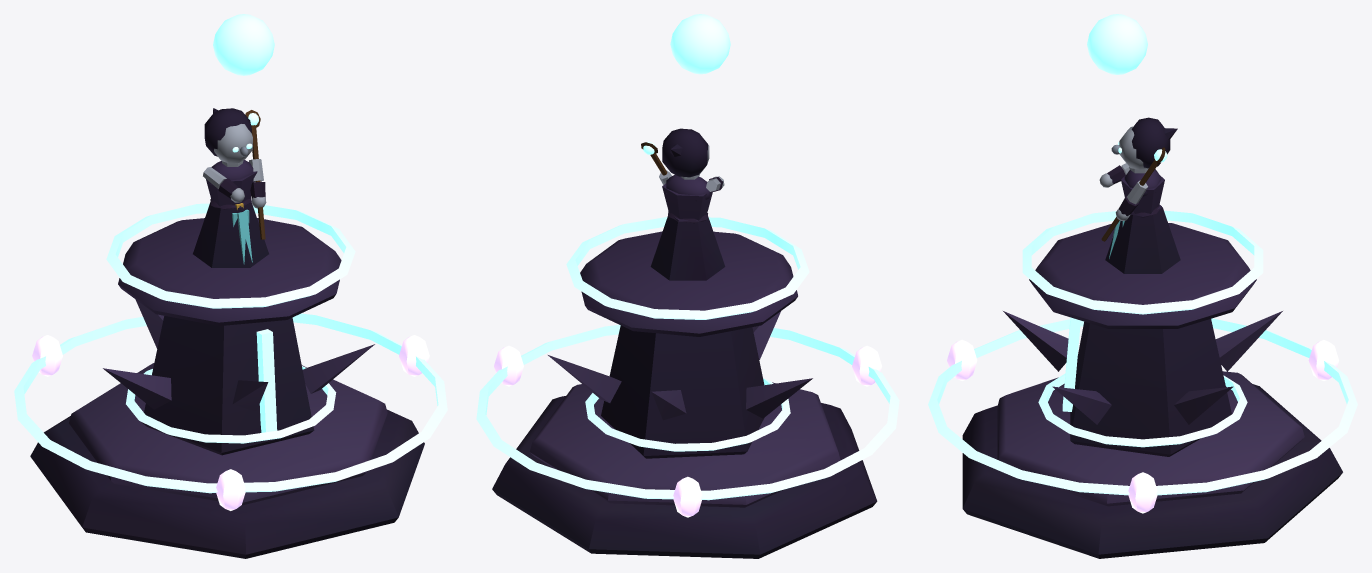
The model's file is ombres_5.glb.
The picture shows the model from 3 angles, left to right: view 1: azimuth 30°, elevation 25°; view 2: azimuth 150°, elevation 25°; view 3: azimuth 270°, elevation 25°; orthographic projection. The views are drawn at different scales.
Visible parts, largest first — view 1: ombres_5_peint, ombres_5_lueur, Rune, Buste_peint, OrbeMagique, AnneauFlottant_lueur, Crane_peint, BrasG_peint, BrasD_peint; view 2: ombres_5_peint, Rune, ombres_5_lueur, Buste_peint, OrbeMagique, AnneauFlottant_lueur, Crane_peint; view 3: ombres_5_peint, ombres_5_lueur, Rune, Buste_peint, OrbeMagique, AnneauFlottant_lueur, Crane_peint, BrasD_peint.
Part boxes in pixels (left/top/right/bottom): ombres_5_peint: left=30, top=218, right=424, bottom=558; ombres_5_lueur: left=106, top=203, right=355, bottom=443; Rune: left=14, top=313, right=447, bottom=493; Buste_peint: left=193, top=160, right=268, bottom=267; OrbeMagique: left=213, top=14, right=274, bottom=75; AnneauFlottant_lueur: left=32, top=335, right=429, bottom=510; Crane_peint: left=204, top=108, right=252, bottom=163; BrasG_peint: left=203, top=167, right=244, bottom=202; BrasD_peint: left=249, top=159, right=266, bottom=208; ombres_5_peint: left=492, top=231, right=877, bottom=558; Rune: left=476, top=325, right=899, bottom=500; ombres_5_lueur: left=566, top=217, right=809, bottom=451; Buste_peint: left=650, top=175, right=725, bottom=280; OrbeMagique: left=670, top=14, right=730, bottom=74; AnneauFlottant_lueur: left=494, top=345, right=881, bottom=517; Crane_peint: left=662, top=128, right=709, bottom=177; ombres_5_peint: left=962, top=223, right=1342, bottom=558; ombres_5_lueur: left=1022, top=210, right=1263, bottom=447; Rune: left=928, top=318, right=1357, bottom=495; Buste_peint: left=1105, top=169, right=1180, bottom=273; OrbeMagique: left=1087, top=14, right=1147, bottom=74; AnneauFlottant_lueur: left=947, top=339, right=1338, bottom=513; Crane_peint: left=1111, top=117, right=1177, bottom=169; BrasD_peint: left=1115, top=180, right=1147, bottom=220.
Bounding box in the file's own units: 0.858 × 1 × 0.844.
